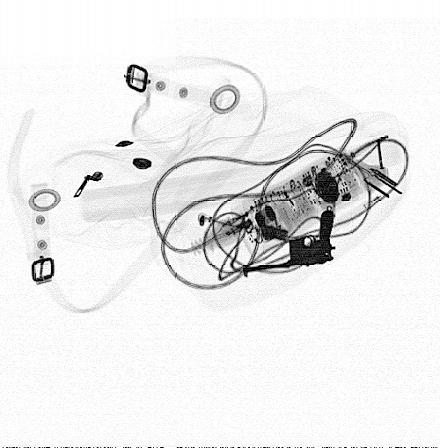Gun: (243, 208, 338, 280)
